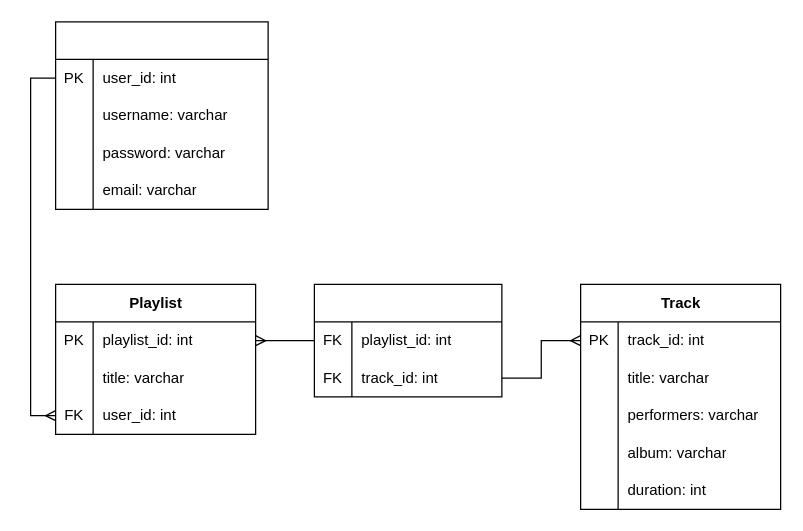
Some shapes in this 803 by 531 pixel diagram are drawn without their labels. Here are the shapes that lost their labels. From the top down, the box of each, then its label:
(54, 21, 268, 209): Users
(313, 283, 502, 397): Playlist_Track
